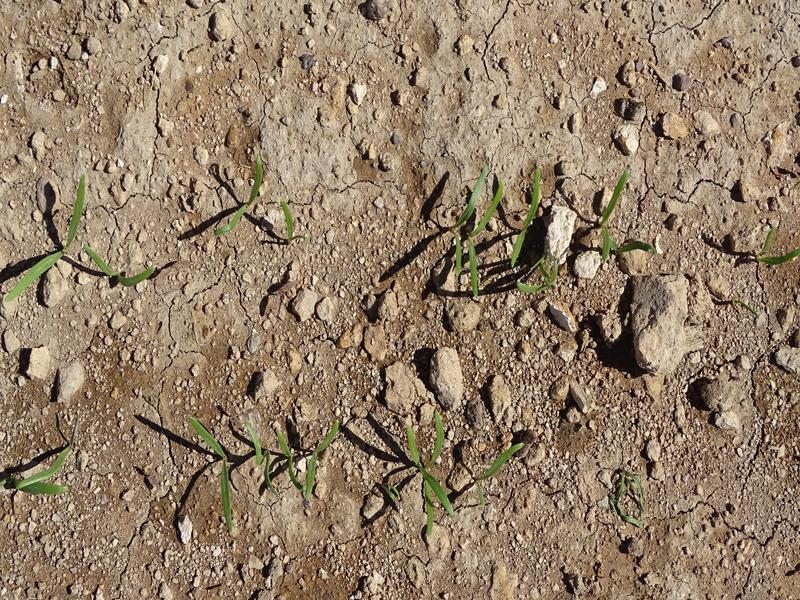Espinaca: (176, 409, 338, 530), (433, 180, 555, 299), (369, 418, 466, 535), (9, 174, 85, 306), (85, 239, 158, 295), (221, 161, 267, 241), (11, 449, 79, 501), (594, 168, 627, 267), (278, 193, 307, 244)
